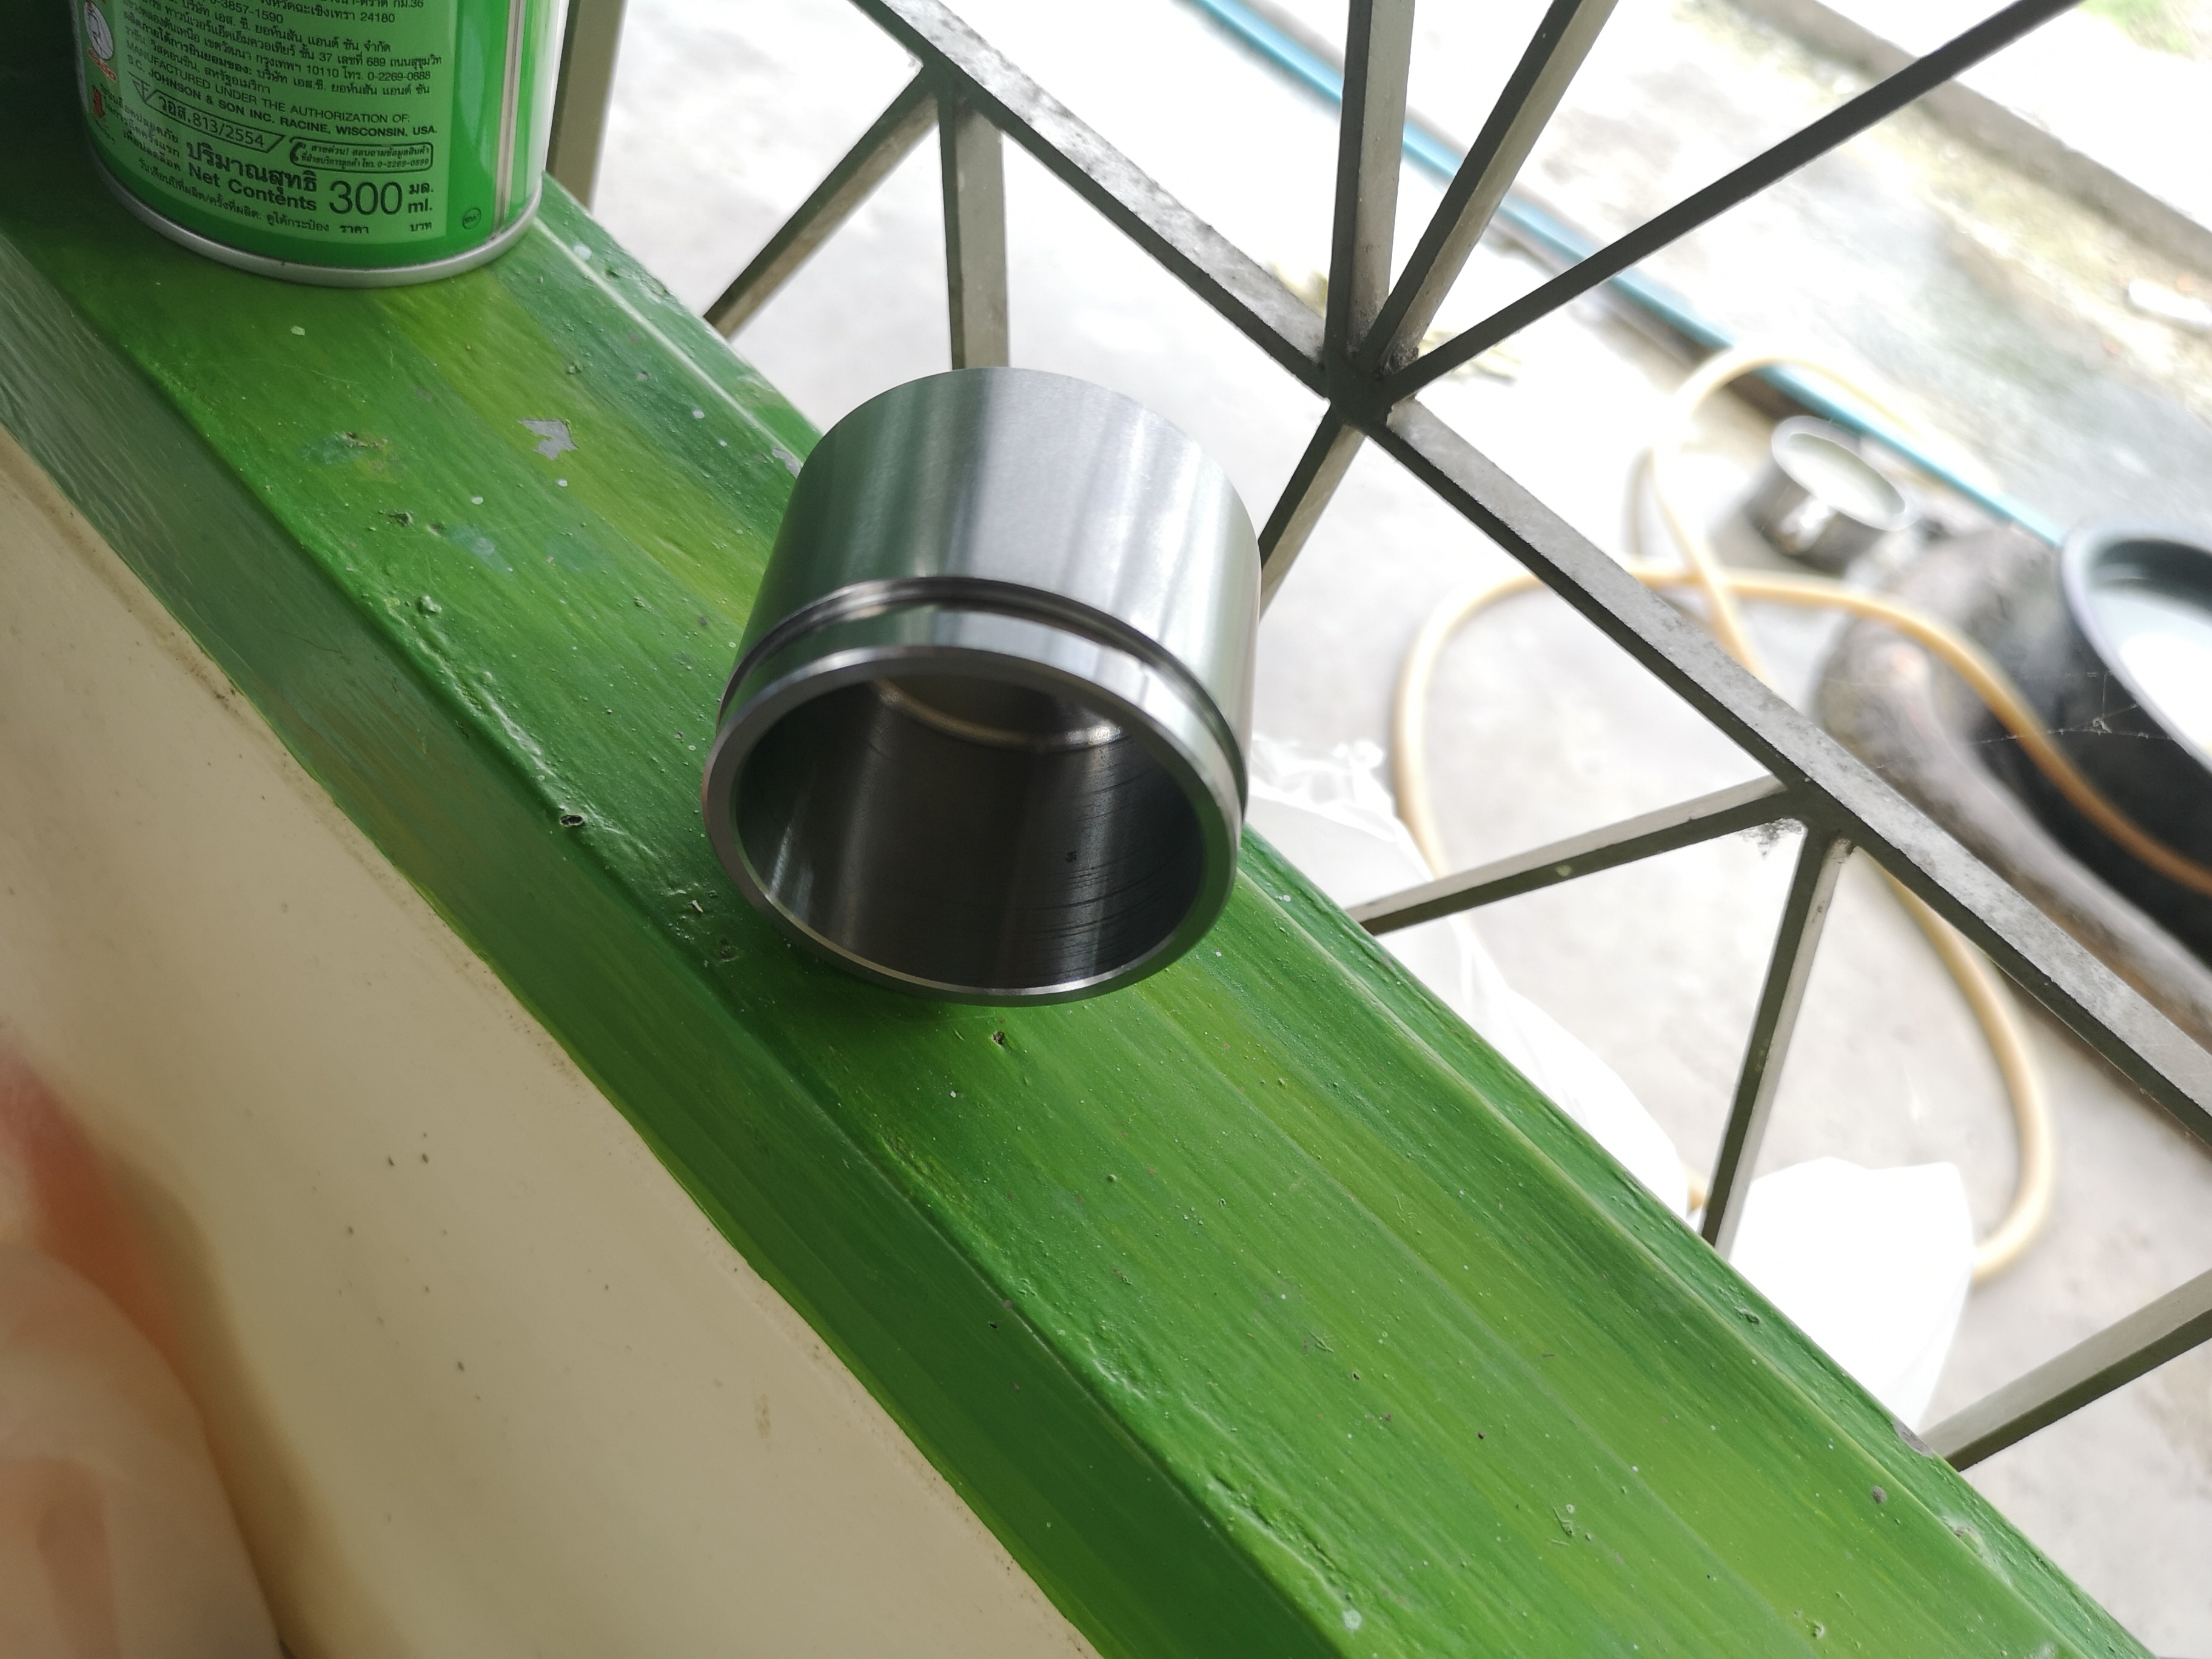ลูกสูบดิสเบรค: (660, 335, 1372, 1046)
